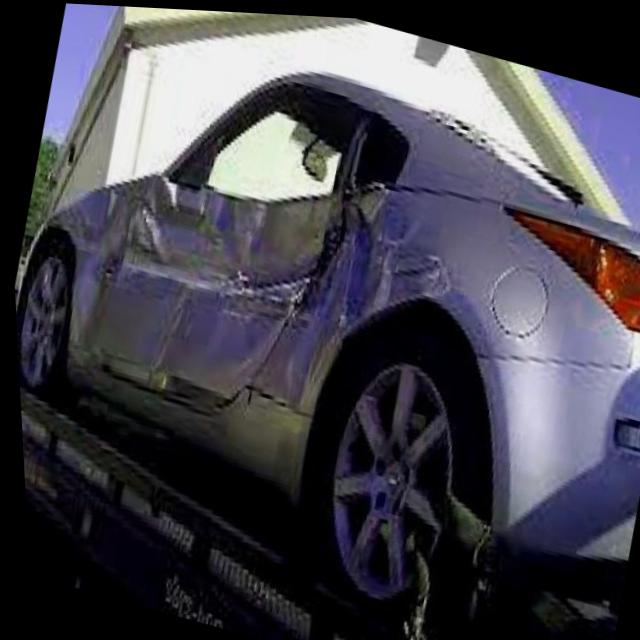Car-Damage: (7, 93, 474, 454)
